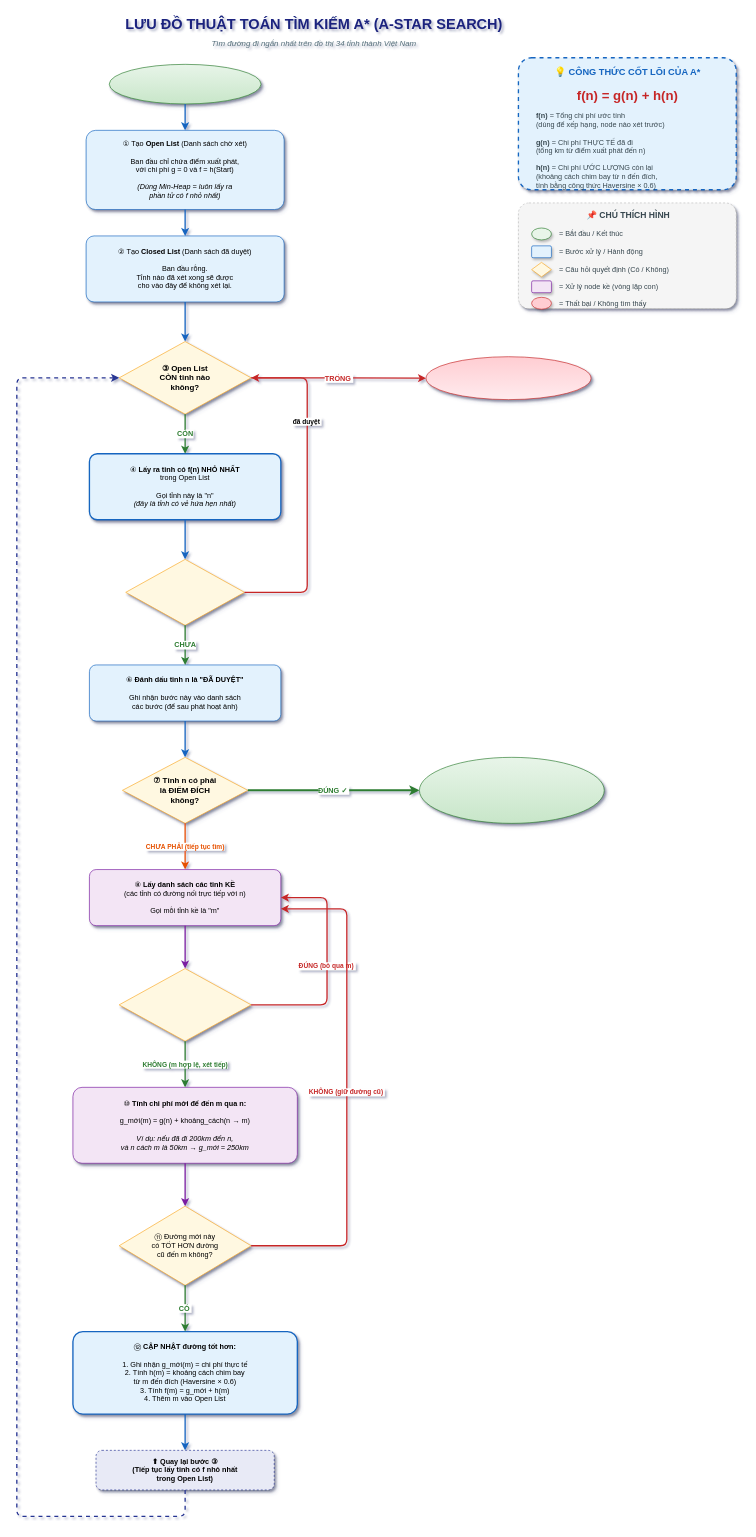
This 756x1537 diagram has some shape labels left out. The shapes that lost their labels are listed below. From the top down, each one's centre as x and y in pixels, then its label:
At (185,85): "BẮT ĐẦU".
At (509,378): "❌ KHÔNG TÌM THẤY ĐƯỜNG! (Có thể do bị chặn hết)".
At (185,593): "⑤ Tỉnh n này đã duyệt rồi chưa?".
At (512,791): "✅ ĐÃ TÌM THẤY! Trả về đường đi tối ưu, tổng chi phí (km) và các bước duyệt".
At (185,1005): "⑨ Với mỗi tỉnh kề m: m đã duyệt rồi HOẶC đường n→m bị chặn?".
